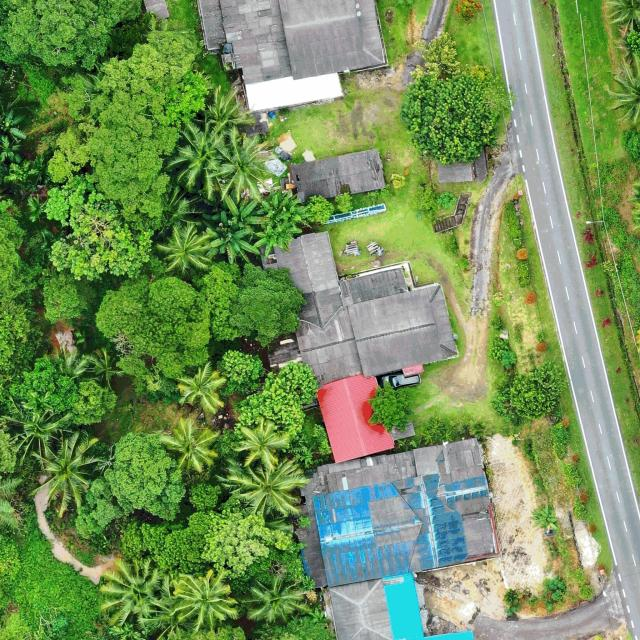Tree: (59, 21, 210, 155), (94, 274, 213, 382), (398, 63, 515, 168), (44, 174, 154, 278), (56, 123, 173, 217), (1, 0, 142, 70), (199, 258, 308, 346), (102, 432, 186, 521), (233, 361, 320, 441), (26, 432, 104, 521), (200, 512, 292, 580), (214, 454, 308, 518), (120, 512, 220, 572), (6, 396, 74, 471), (210, 125, 274, 202), (100, 558, 164, 629), (166, 121, 222, 202), (9, 355, 81, 414), (173, 569, 239, 633), (157, 416, 220, 475), (508, 360, 567, 420), (244, 572, 308, 625), (154, 222, 215, 276), (202, 211, 262, 264), (39, 271, 96, 326), (75, 476, 122, 538), (202, 88, 256, 140), (176, 364, 233, 413), (234, 419, 288, 469), (366, 378, 412, 433), (603, 57, 640, 125), (257, 189, 315, 229), (72, 379, 118, 426), (220, 348, 265, 394), (417, 31, 459, 76), (86, 344, 125, 390), (225, 194, 270, 232), (255, 220, 303, 255), (409, 181, 458, 211), (187, 481, 222, 512), (605, 0, 640, 28), (307, 193, 335, 224), (529, 505, 559, 531), (333, 192, 355, 215)
